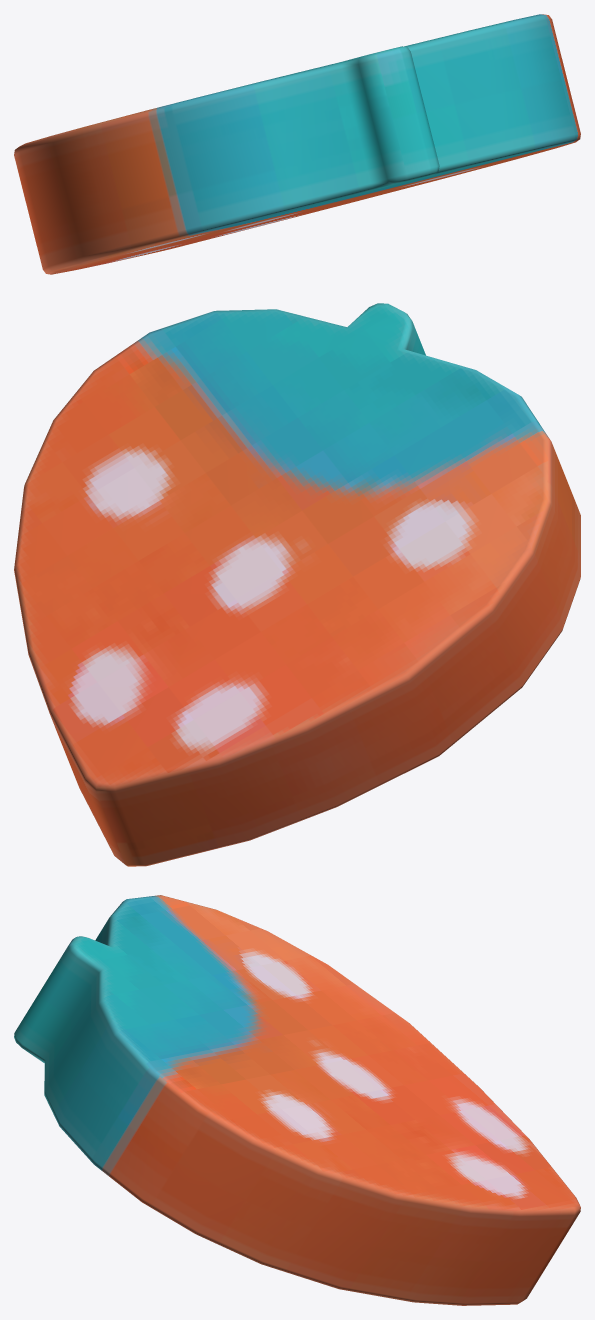
Rendered from ref_gtfruiteraser.fbx.
3 views of the same model, one above another, from view 1: azimuth 30°, elevation 25°; view 2: azimuth 150°, elevation 25°; view 3: azimuth 270°, elevation 25° (orthographic). The views are drawn at different scales.
Parts seen in each view (by area): view 1: ref_gtfruiteraser; view 2: ref_gtfruiteraser; view 3: ref_gtfruiteraser.
Part boxes in pixels (bbox=[...]): ref_gtfruiteraser: bbox=[14, 14, 580, 274]; ref_gtfruiteraser: bbox=[14, 303, 580, 866]; ref_gtfruiteraser: bbox=[14, 895, 580, 1305].
Size of the model in its own units: 90.8 by 68.56 by 100.
1 material, 1 textured.
